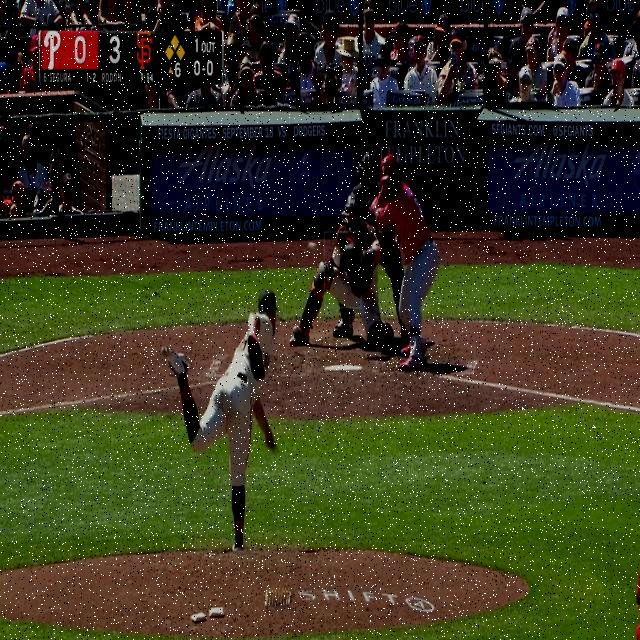baseball: (308, 242, 316, 252)
